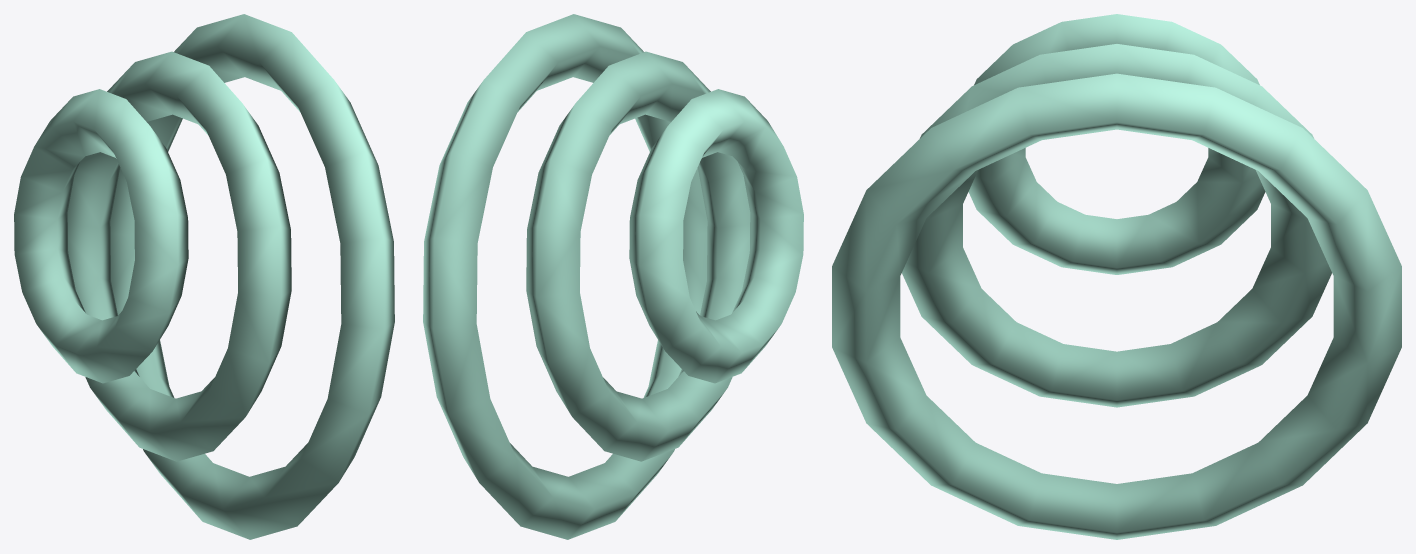
File: WandWind.fbx
3 renders of one model, left to right at view 1: azimuth 30°, elevation 25°; view 2: azimuth 150°, elevation 25°; view 3: azimuth 270°, elevation 25°, orthographic. The views are drawn at different scales.
Parts seen in each view (by area): view 1: wind; view 2: wind; view 3: wind.
Part boxes in pixels (box(x1,y1,x2,y2)): wind: box(14, 14, 394, 539); wind: box(423, 14, 803, 539); wind: box(832, 14, 1401, 539).
Bounding box in the file's own units: 0.2836 × 0.4903 × 0.4924.
